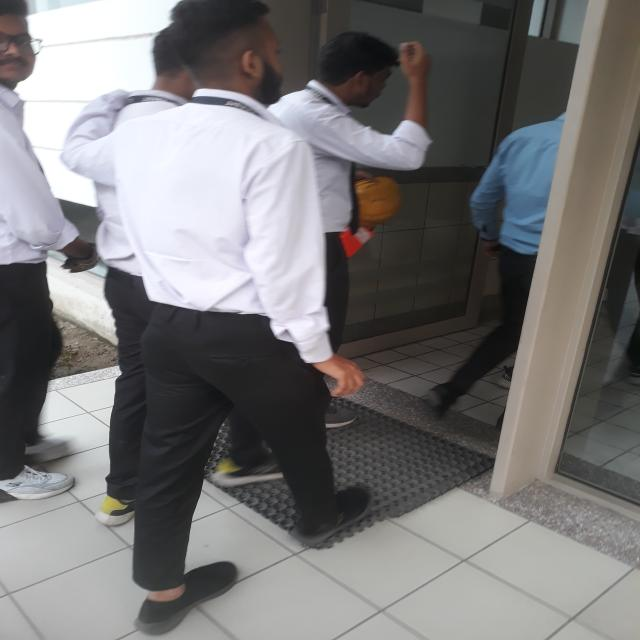unsafe: (71, 0, 370, 636), (278, 30, 432, 417), (5, 0, 95, 499)
